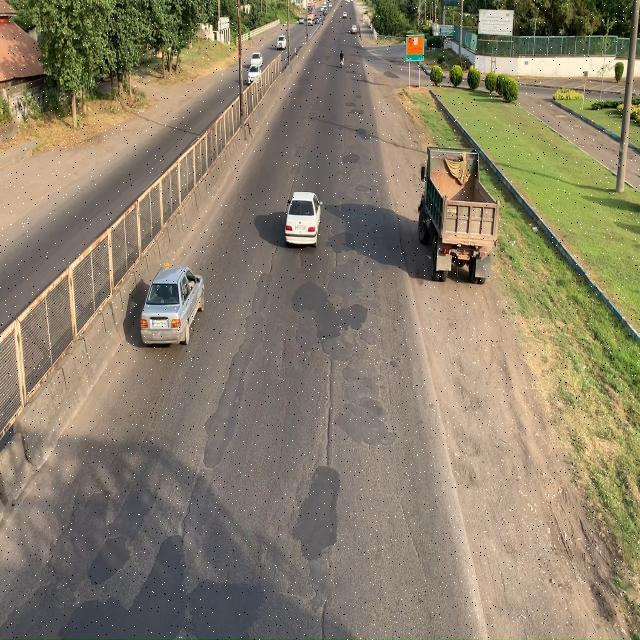Truck: (411, 150, 494, 290)
cars: (140, 269, 203, 345), (287, 190, 319, 243)
